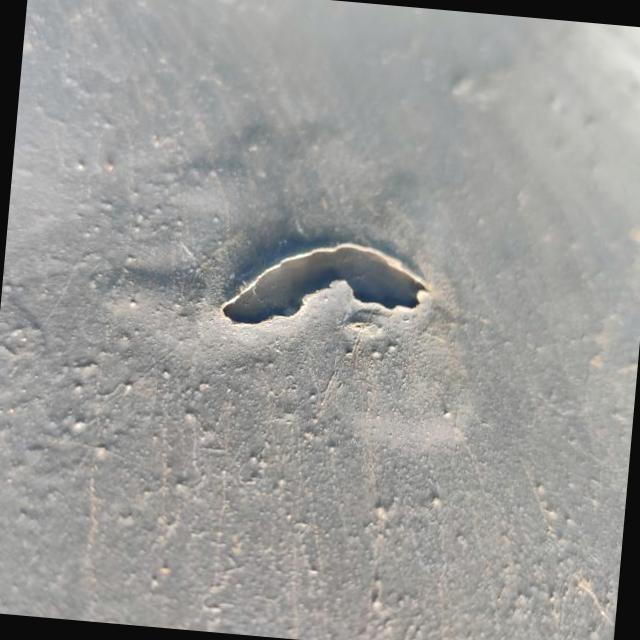paint-off: (180, 163, 478, 394)
